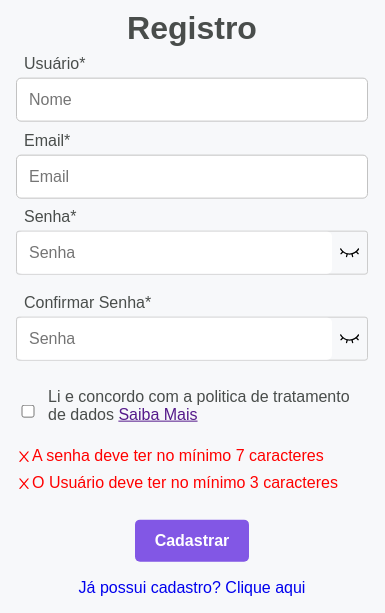
Test: RegisterUserPage › must test whether the error was correctly placed in the Confirm Password handle
In the password field labelled "Senha*": (174, 253) [17,232,332,274], type "1234567"
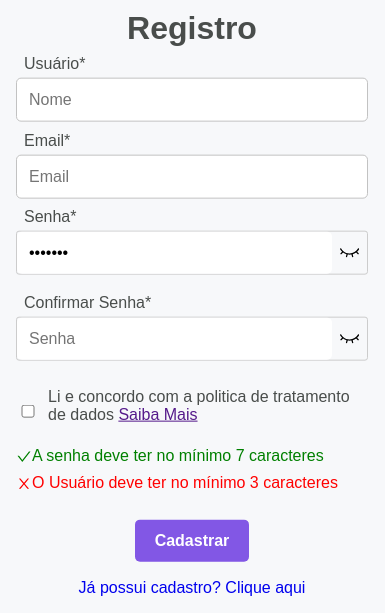
In the password field labelled "Confirmar Senha*": (174, 339) [17,318,332,360], type "12345679"
Wait 200 ms
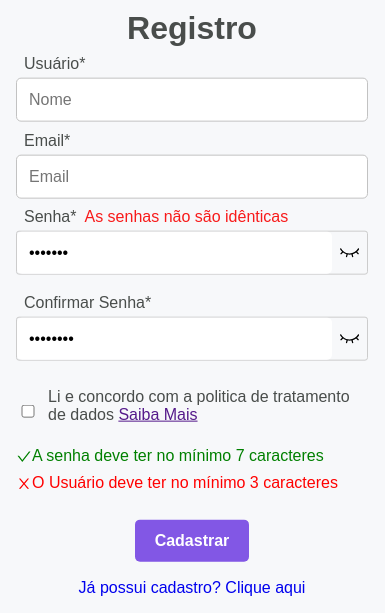
Expected: the text "As senhas não são idênticas" is shown, [84,208,288,225]
